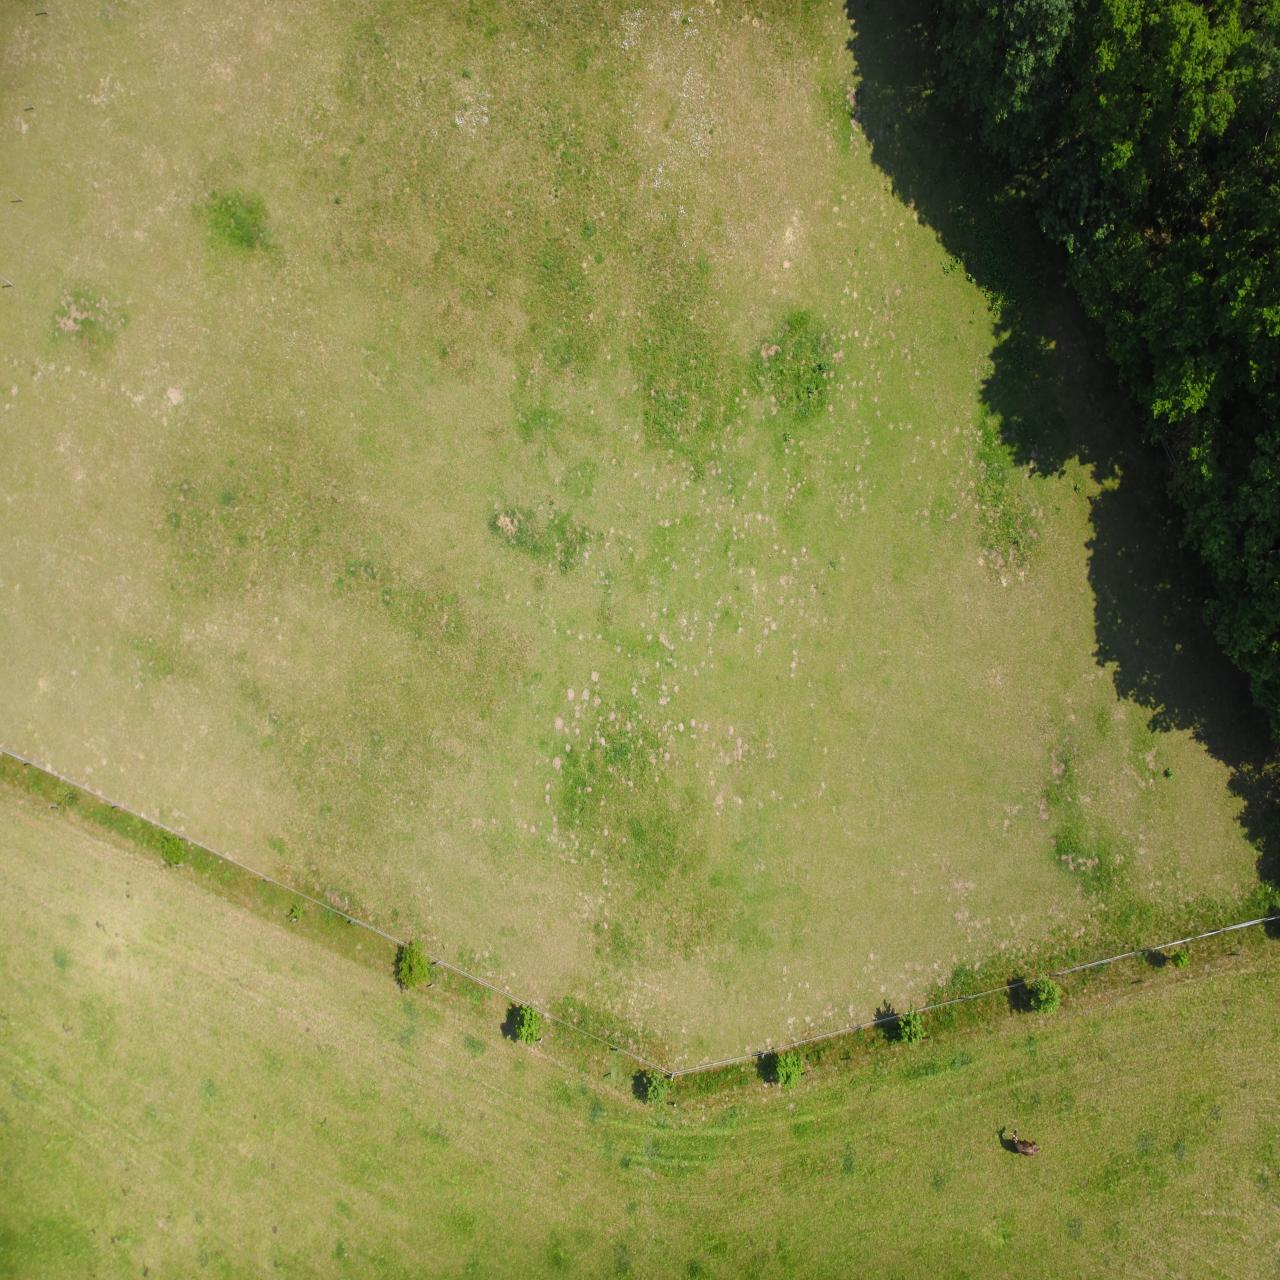cow: (240, 123, 268, 151)
